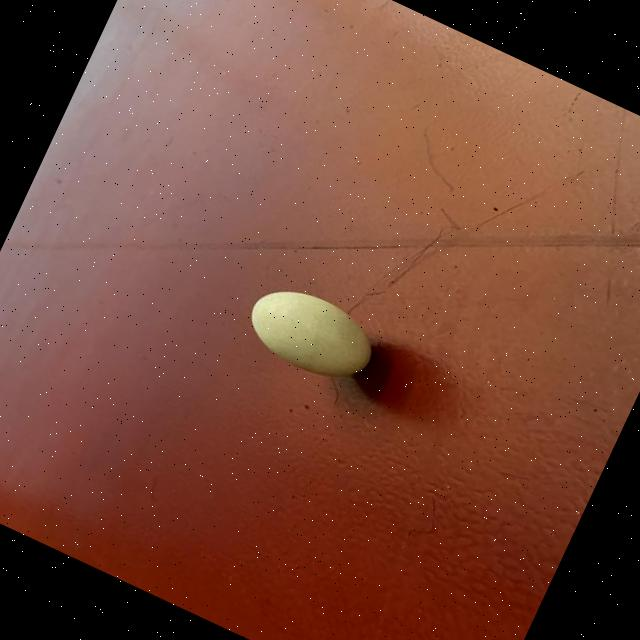ping-pong-ball: (234, 272, 390, 396)
